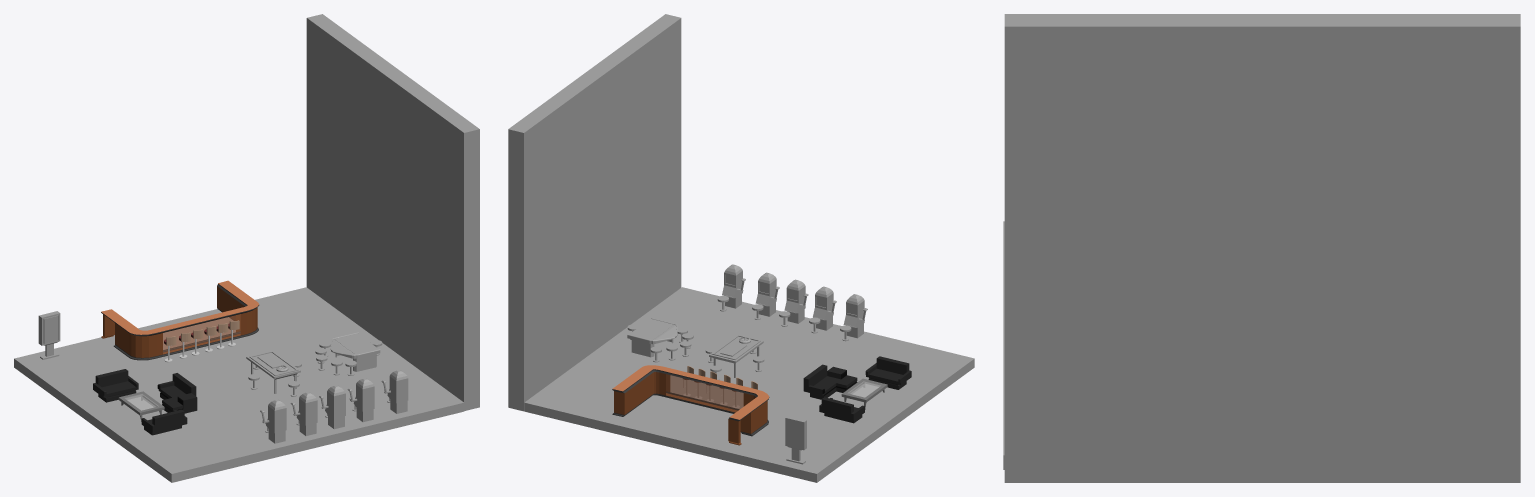
The model's file is taller9.fbx.
3 views of the same model, side by side, from view 1: azimuth 30°, elevation 25°; view 2: azimuth 150°, elevation 25°; view 3: azimuth 270°, elevation 25° (orthographic). The views are drawn at different scales.
Parts seen in each view (by area): view 1: pared, piso, barrabar, tragamonedas, sofas, sillas_juegos, sillasbar, mesablackjack, mesaruleta, mesasofas, baseletrero; view 2: pared, piso, barrabar, sofas, tragamonedas, sillas_juegos, baseletrero, mesablackjack, mesaruleta, mesasofas, sillasbar, pantallabajotraga (+1 smaller); view 3: pared.
Part boxes in pixels (x1,y1,x2,y2): pared: (306, 14, 479, 410); piso: (14, 287, 464, 482); barrabar: (101, 280, 259, 360); tragamonedas: (260, 370, 408, 443); sofas: (93, 369, 197, 435); sillas_juegos: (248, 340, 390, 432); sillasbar: (164, 320, 239, 362); mesablackjack: (330, 331, 380, 371); mesaruleta: (246, 350, 300, 393); mesasofas: (118, 391, 164, 419); baseletrero: (38, 311, 60, 359); pared: (508, 14, 681, 411); piso: (524, 287, 974, 482); barrabar: (612, 365, 769, 445); sofas: (803, 356, 911, 423); tragamonedas: (722, 264, 867, 338); sillas_juegos: (627, 296, 851, 379); baseletrero: (785, 415, 806, 464); mesablackjack: (627, 317, 677, 357); mesaruleta: (709, 334, 763, 377); mesasofas: (841, 378, 887, 406); sillasbar: (683, 366, 757, 408); pantallabajotraga: (723, 286, 856, 326); pared: (1004, 14, 1520, 482).
Bounding box in the file's own units: 1275 × 1098 × 1128.
